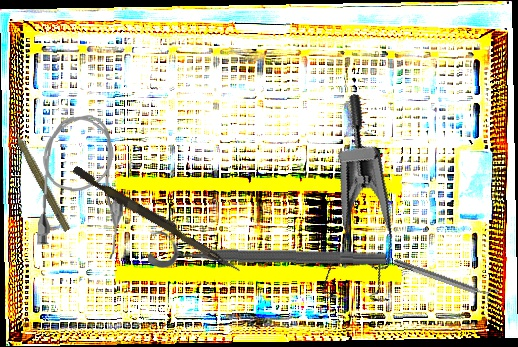Cannula: (36, 112, 128, 260)
Fixation Ring: (147, 227, 387, 273), (391, 252, 500, 307)
Handpiece: (5, 118, 75, 234)
Pusher: (69, 165, 245, 274)
Speculum: (265, 92, 427, 320)
